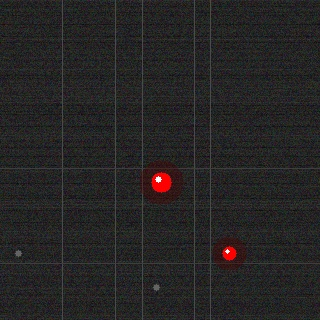red_fault: (149, 170, 173, 194), (220, 244, 238, 262)
